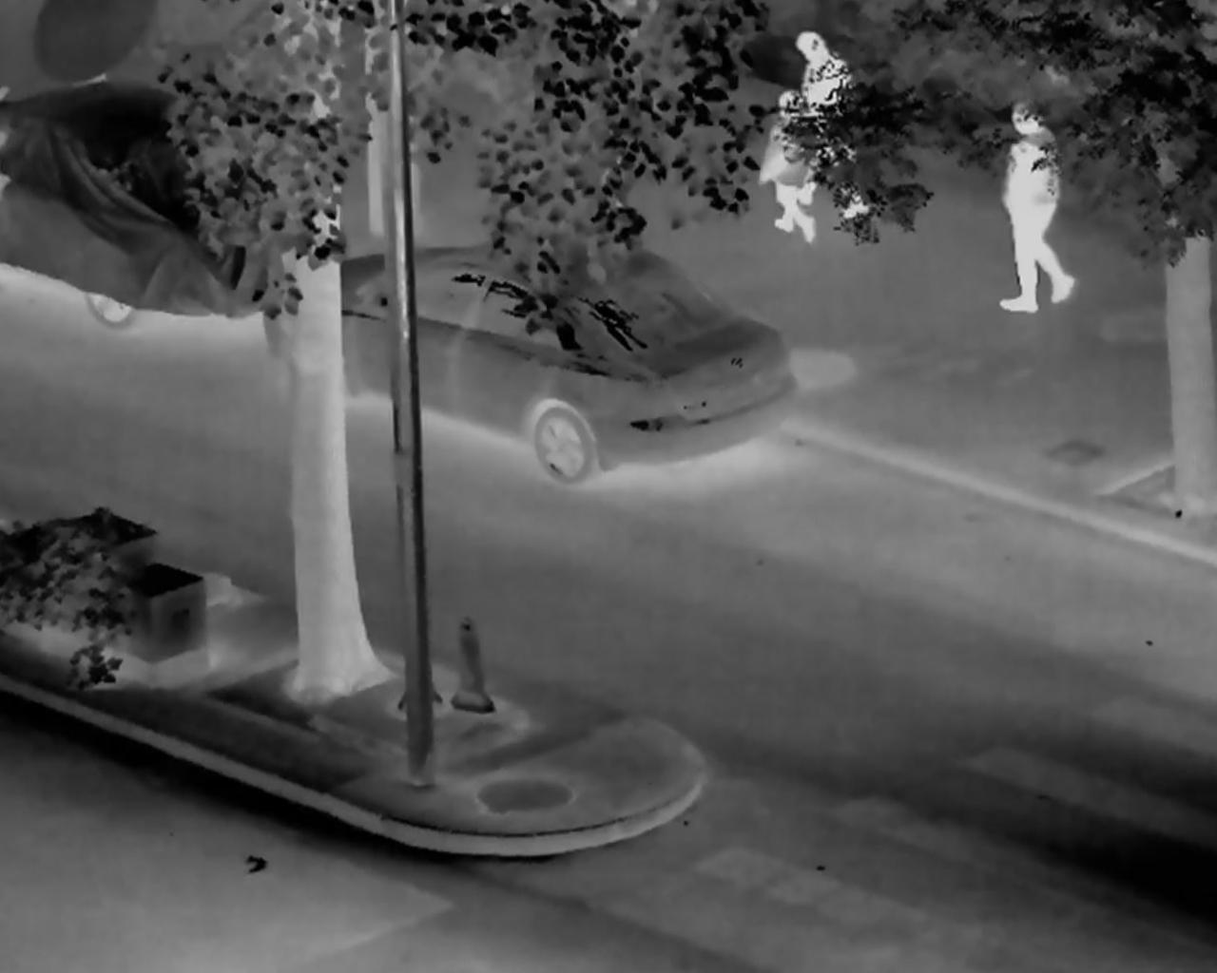person: (995, 103, 1074, 312), (794, 31, 870, 220), (763, 90, 821, 241)
